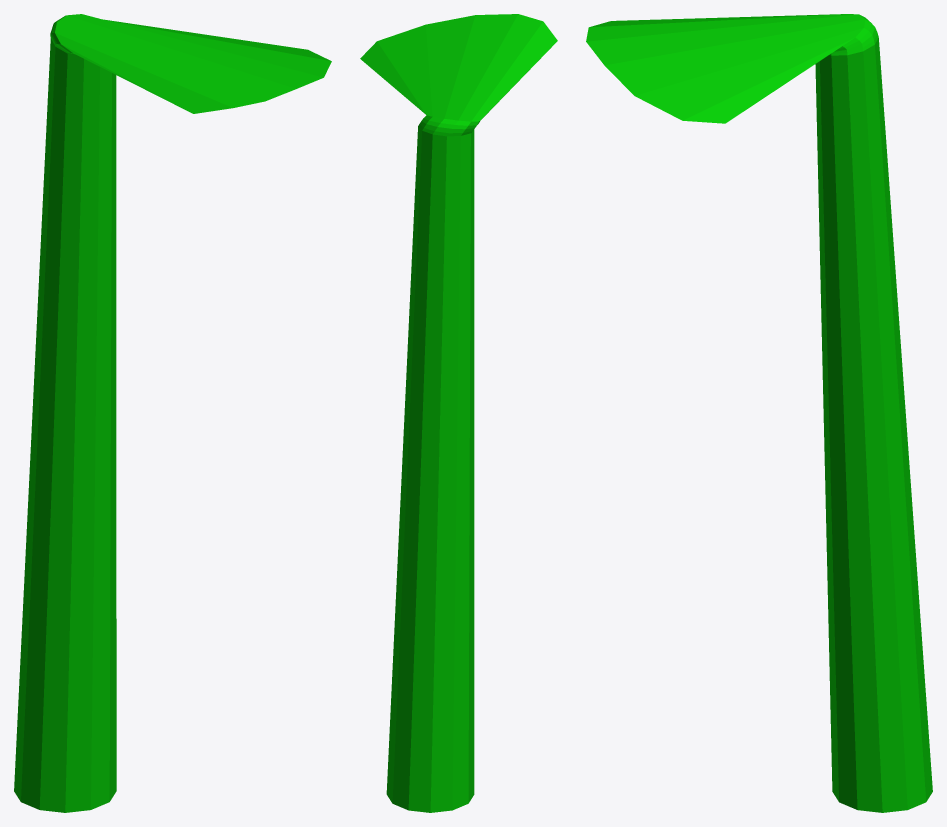
File: leaf1.obj
3 views of the same model, side by side, from view 1: azimuth 30°, elevation 25°; view 2: azimuth 150°, elevation 25°; view 3: azimuth 270°, elevation 25° (orthographic). The views are drawn at different scales.
Visible parts, largest first — view 1: Cylinder; view 2: Cylinder; view 3: Cylinder.
Part boxes in pixels (left/top/right/bottom): Cylinder: left=14, top=14, right=331, bottom=812; Cylinder: left=360, top=14, right=557, bottom=812; Cylinder: left=586, top=14, right=932, bottom=812.
Bounding box in the file's own units: 0.3685 × 1.33 × 0.5402.
